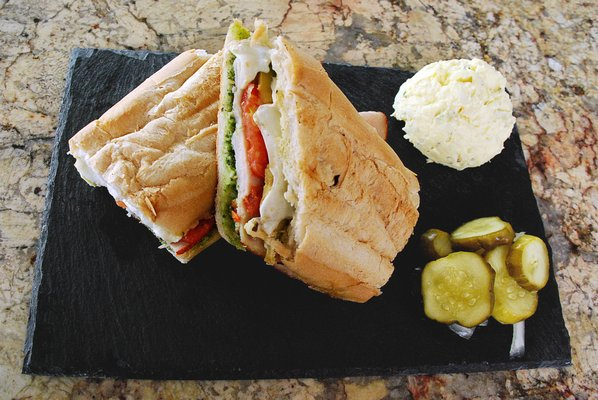pasta: (420, 216, 551, 329)
soup: (213, 19, 421, 303)
